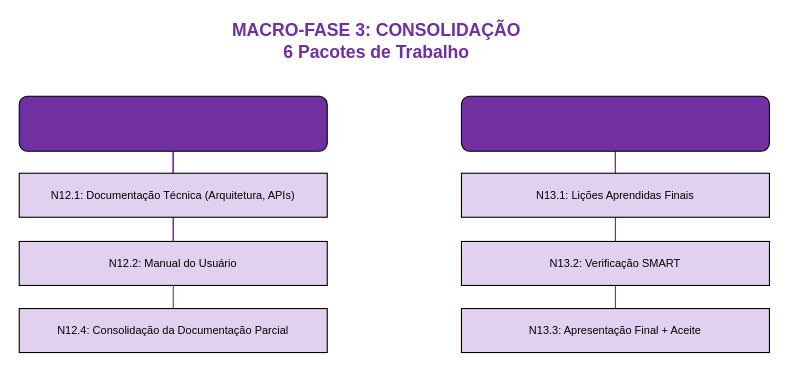
The diagram is 789 pixels wide and 372 high, and some of its shapes have lost their labels. Each missing label, with the box of its shape:
N12: Documentação do Projeto: (18, 95, 327, 151)
N13: Encerramento: (460, 95, 769, 151)
